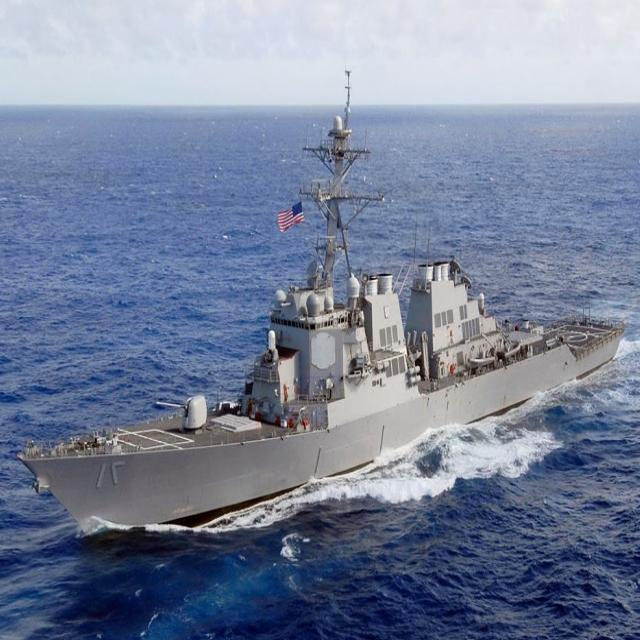navalvessels: (35, 76, 614, 546)
